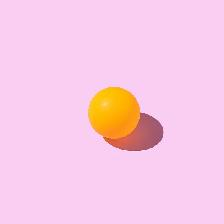YellowBall: (88, 87, 140, 139)
